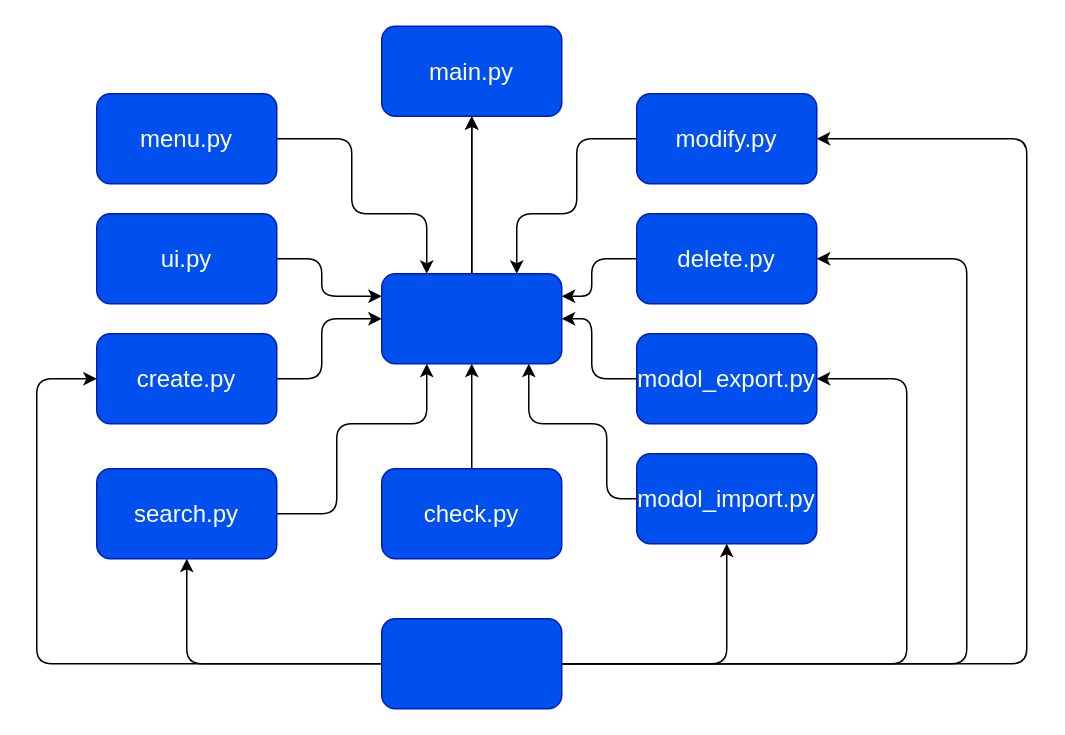
Some shapes in this 1065 by 735 pixel diagram are drawn without their labels. The centre of each missing label's shape, as x and y in pixels:
"controller.py" belongs at point (471, 318).
"logger.py" belongs at point (471, 663).
